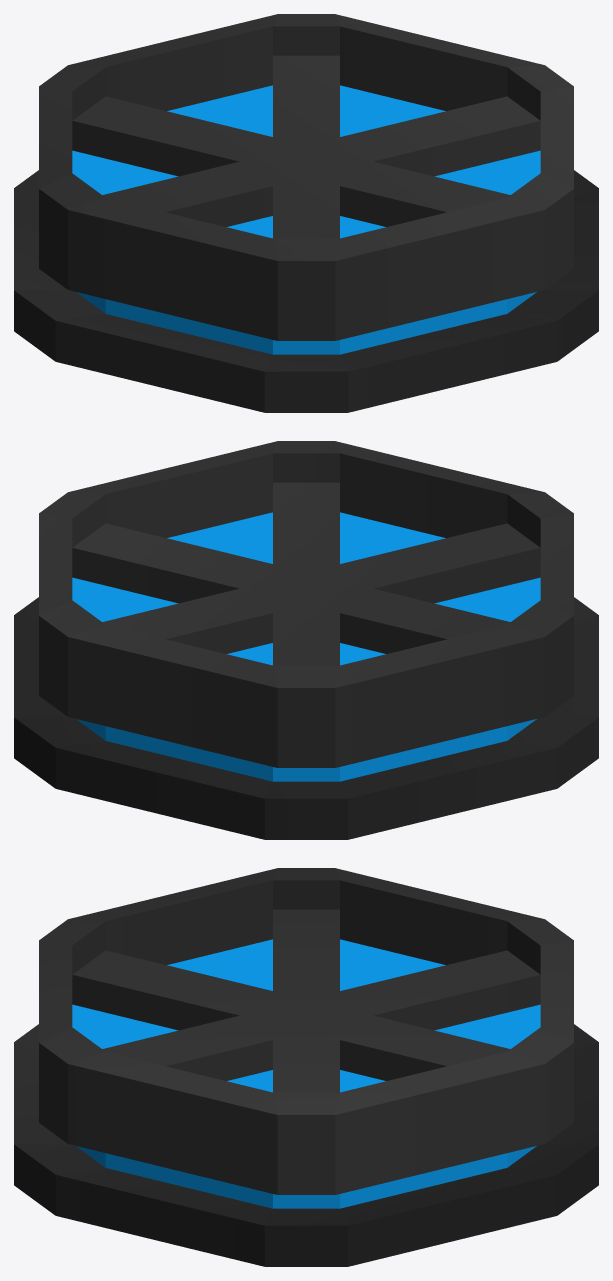
The model's file is Msh_FemaleSocket.FBX.
The picture shows the model from 3 angles, top to bottom: view 1: azimuth 30°, elevation 25°; view 2: azimuth 150°, elevation 25°; view 3: azimuth 270°, elevation 25°; orthographic projection.
Parts seen in each view (by area): view 1: Socket_Female; view 2: Socket_Female; view 3: Socket_Female.
Part boxes in pixels (x1,y1,x2,y2): Socket_Female: (14, 14, 598, 412); Socket_Female: (14, 441, 598, 839); Socket_Female: (14, 868, 598, 1266).
Size of the model in its own units: 3.33 by 3.1 by 0.8651.
